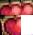heart: (0, 15, 21, 35), (0, 0, 21, 15)
